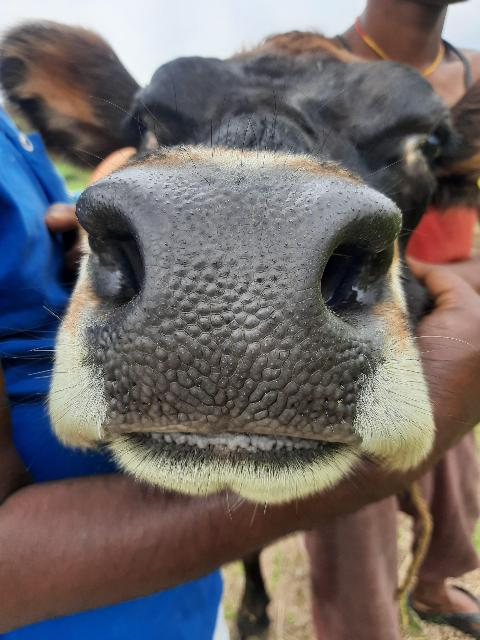Muzzle: (82, 180, 380, 434)
